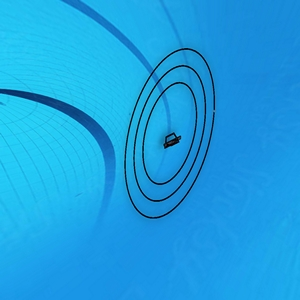circle: (120, 44, 224, 223)
submarine: (166, 133, 183, 144)
